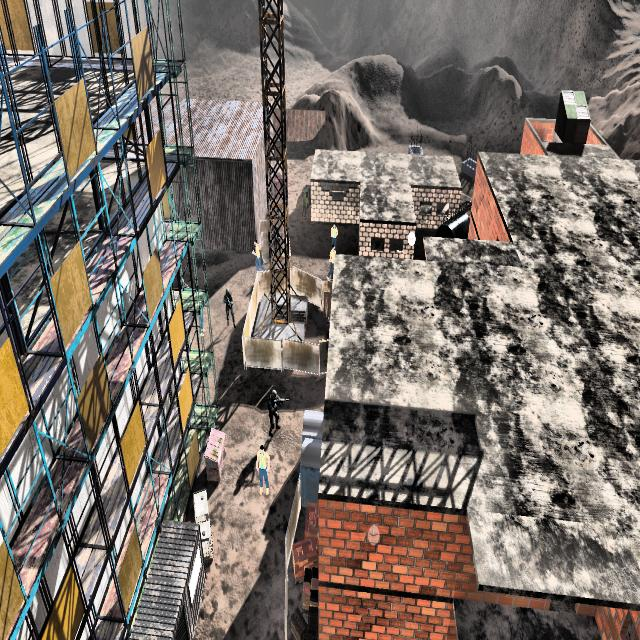bad: (261, 380, 286, 439), (220, 275, 238, 334)
good: (249, 441, 275, 502), (248, 235, 264, 270), (323, 247, 338, 273), (328, 213, 340, 245)
